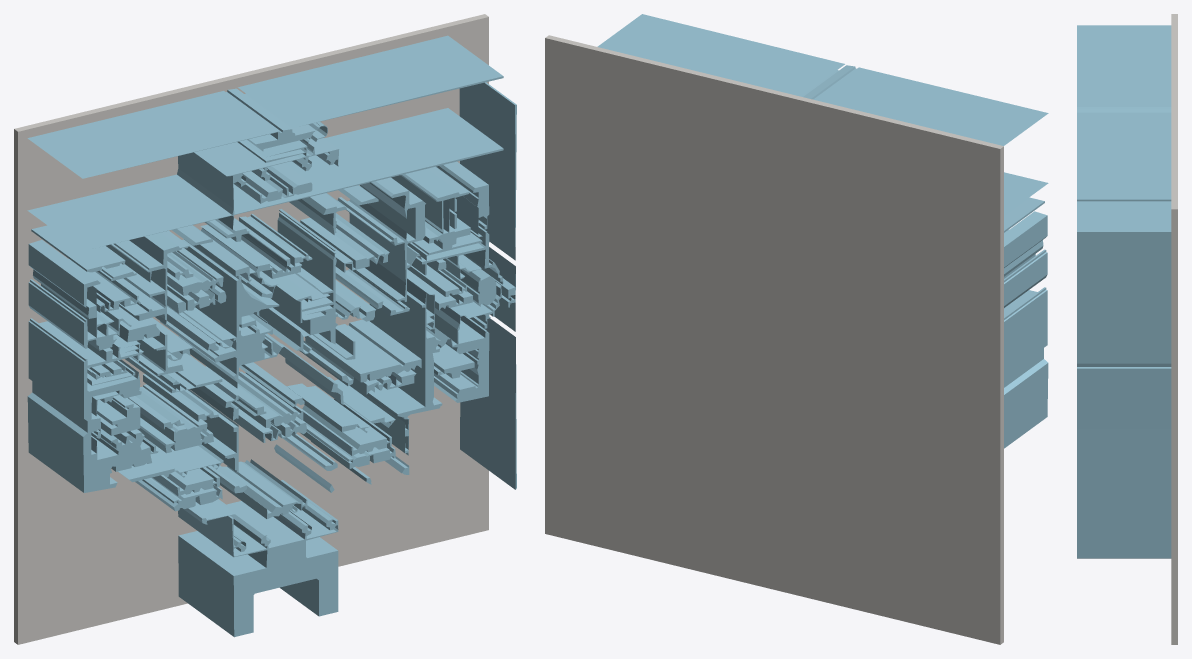
3 renders of one model, left to right at view 1: azimuth 30°, elevation 25°; view 2: azimuth 150°, elevation 25°; view 3: azimuth 270°, elevation 25°, orthographic. The views are drawn at different scales.
Parts seen in each view (by area): view 1: world; view 2: world; view 3: world.
Boxes of the visible parts, x1,y1,x2,y2 form: world: [14, 14, 516, 644]; world: [545, 14, 1048, 644]; world: [1077, 14, 1177, 644].
Bounding box in the file's own units: 10.23 × 10.65 × 2.24.
